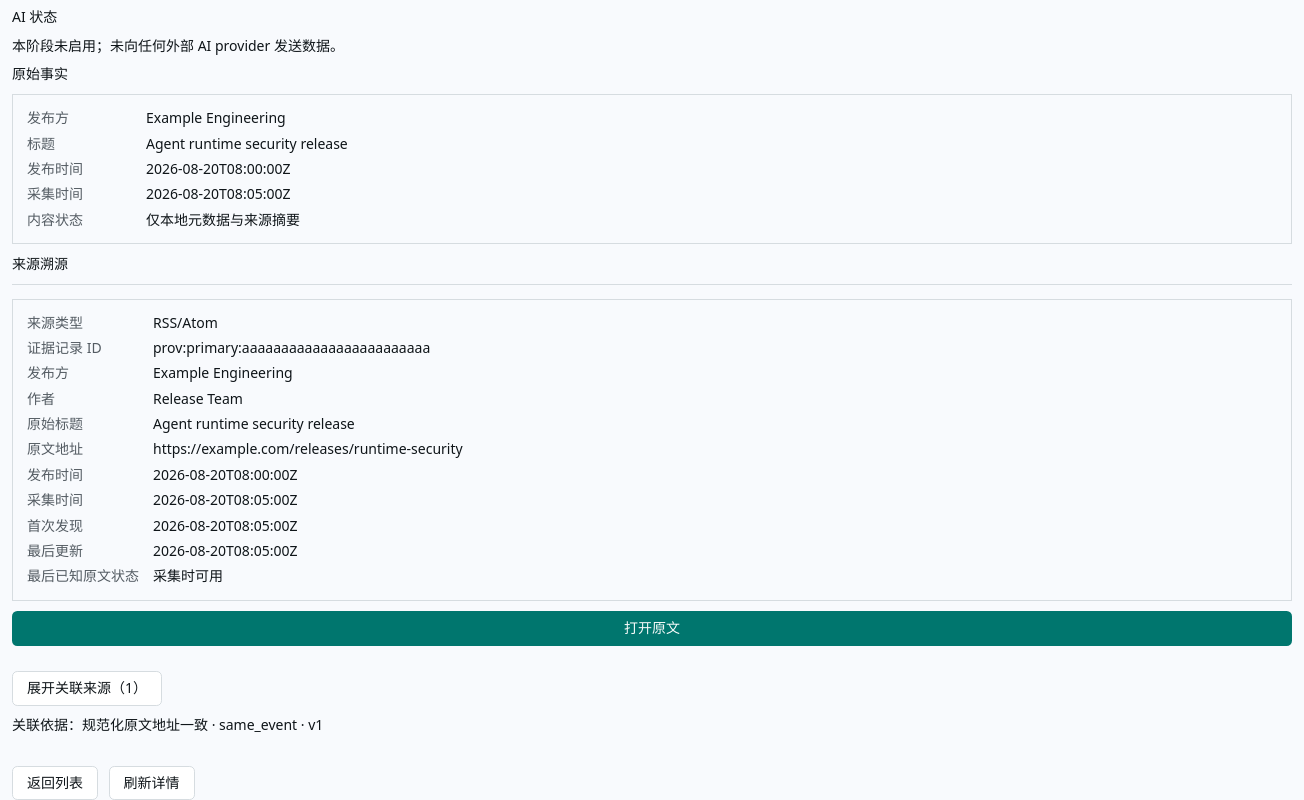
it: EvidenceDetailPanel › 打开超时后保持不确定状态并在当前详情会话禁用重试
(page scrolled)
Click the button "打开原文": (652, 629) left=12, top=611, right=1292, bottom=646
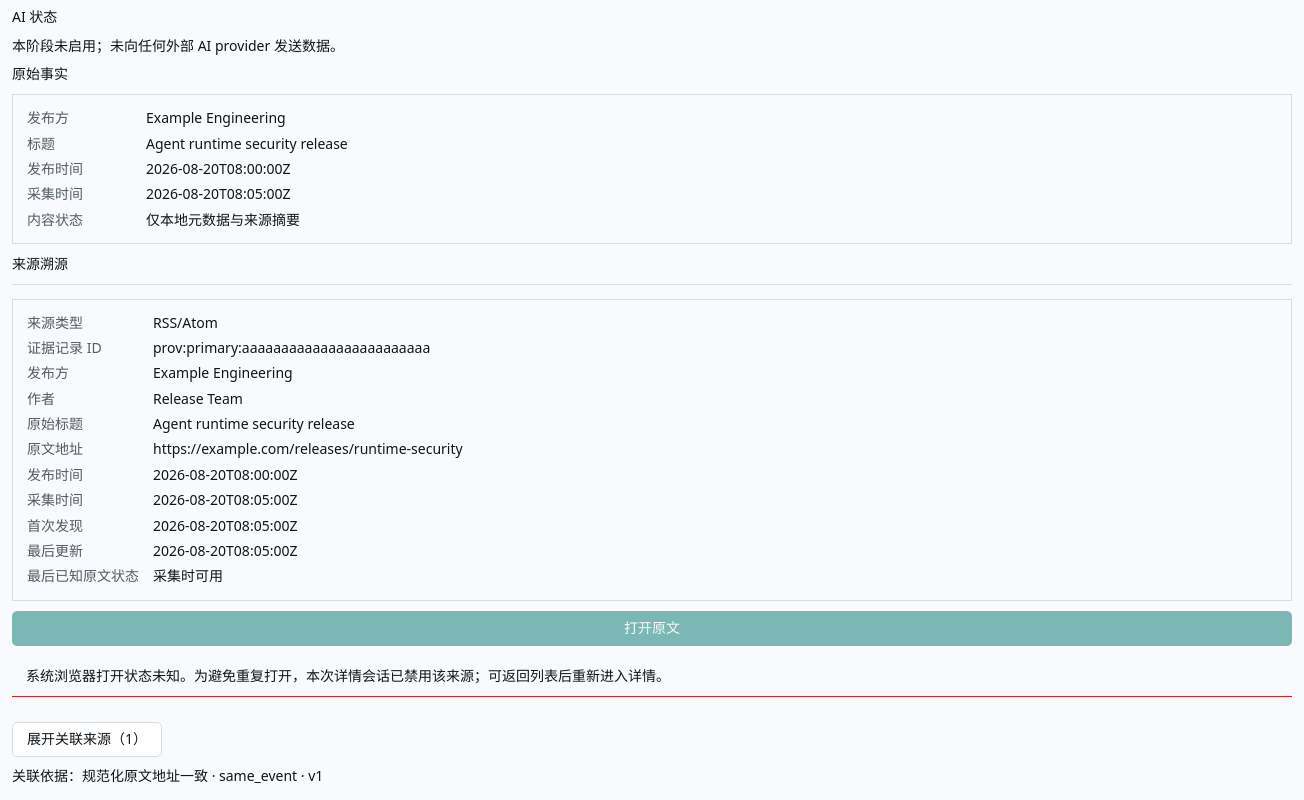
Check: the message shows "系统浏览器打开状态未知", box left=26, top=666, right=670, bottom=685
Check: the button "打开原文" is disabled, box left=12, top=611, right=1292, bottom=646
